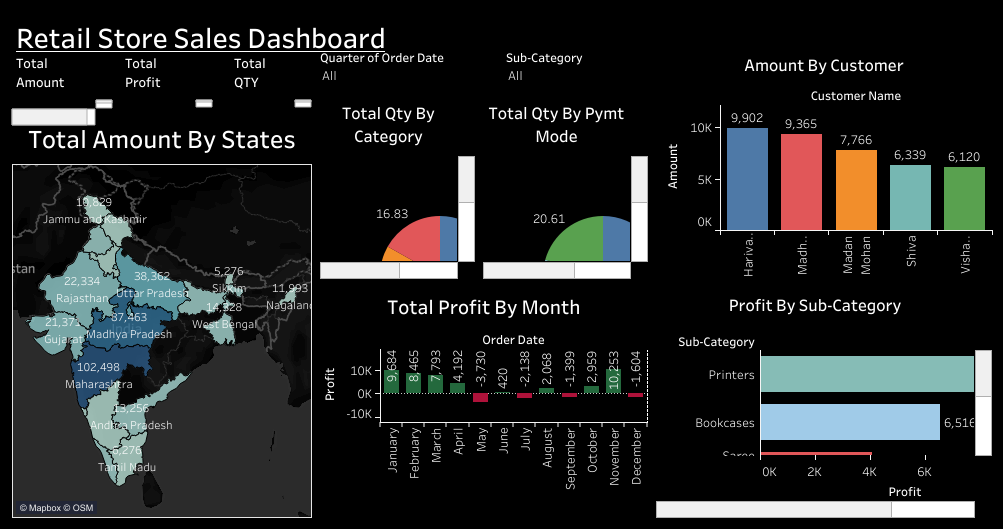

The page's visual inventory and layout, read from the dashboard file:
{"tool":"tableau","page":{"name":"Dashboard 1","canvas":[1000,1000],"units":"permille","ordinal":0},"visuals":[{"type":"worksheet","title":"Title","mark":"Automatic","box":[4.8,10,990.3,67.3]},{"type":"worksheet","title":"Total Amount","mark":"Automatic","box":[4.8,77.3,109.2,128.9]},{"type":"worksheet","title":"Total Profit","mark":"Automatic","box":[114,77.3,109.5,128.9]},{"type":"worksheet","title":"Total Quantity","mark":"Automatic","box":[223.6,77.3,89.7,128.9]},{"type":"filter","title":"Total Profit By Month","param":"[federated.0wzznfz1kzk8gi13wfmfb0u2w3c6].[qr:Order Date:ok]","box":[313.3,77.3,186.3,90.7]},{"type":"filter","title":"Total Profit By Sub-Category","param":"[federated.0wzznfz1kzk8gi13wfmfb0u2w3c6].[none:Sub-Category:nk]","box":[499.6,77.3,150.9,90.7]},{"type":"worksheet","title":"Total  Amount By Customer","mark":"Automatic","rows":["Amount"],"cols":["CustomerName"],"box":[650.5,77.3,344.7,456.9]},{"type":"worksheet","title":"Total Quantity by Category","mark":"Pie","box":[313.3,168,163.4,366.2]},{"type":"worksheet","title":"Total Quantity By Payment Mode","mark":"Pie","box":[476.7,168,173.8,366.2]},{"type":"worksheet","title":"Total Amount By States","mark":"Automatic","box":[4.8,206.2,308.4,783.8]},{"type":"worksheet","title":"Total Profit By Month","mark":"Bar","rows":["Profit"],"cols":["Order Date"],"box":[313.3,534.1,337.2,455.9]},{"type":"worksheet","title":"Total Profit By Sub-Category","mark":"Automatic","rows":["Sub-Category"],"cols":["Profit"],"box":[650.4,534.1,344.7,455.9]}]}

Visuals, with their boxes on the dashboard's canvas, which has no fixed pixel size, in thousandths of its width and height (x1, y1, x2, y2). These are canvas units, not pixel positions in the 1003x529 screenshot, which may show the page scaled, cropped or inside an application window:
"Title" worksheet: x1=5 y1=10 x2=995 y2=77
"Total Amount" worksheet: x1=5 y1=77 x2=114 y2=206
"Total Profit" worksheet: x1=114 y1=77 x2=224 y2=206
"Total Quantity" worksheet: x1=224 y1=77 x2=313 y2=206
"Total Profit By Month" filter: x1=313 y1=77 x2=500 y2=168
"Total Profit By Sub-Category" filter: x1=500 y1=77 x2=650 y2=168
"Total  Amount By Customer" worksheet: x1=650 y1=77 x2=995 y2=534
"Total Quantity by Category" worksheet (Pie marks): x1=313 y1=168 x2=477 y2=534
"Total Quantity By Payment Mode" worksheet (Pie marks): x1=477 y1=168 x2=650 y2=534
"Total Amount By States" worksheet: x1=5 y1=206 x2=313 y2=990
"Total Profit By Month" worksheet (Bar marks): x1=313 y1=534 x2=650 y2=990
"Total Profit By Sub-Category" worksheet: x1=650 y1=534 x2=995 y2=990
